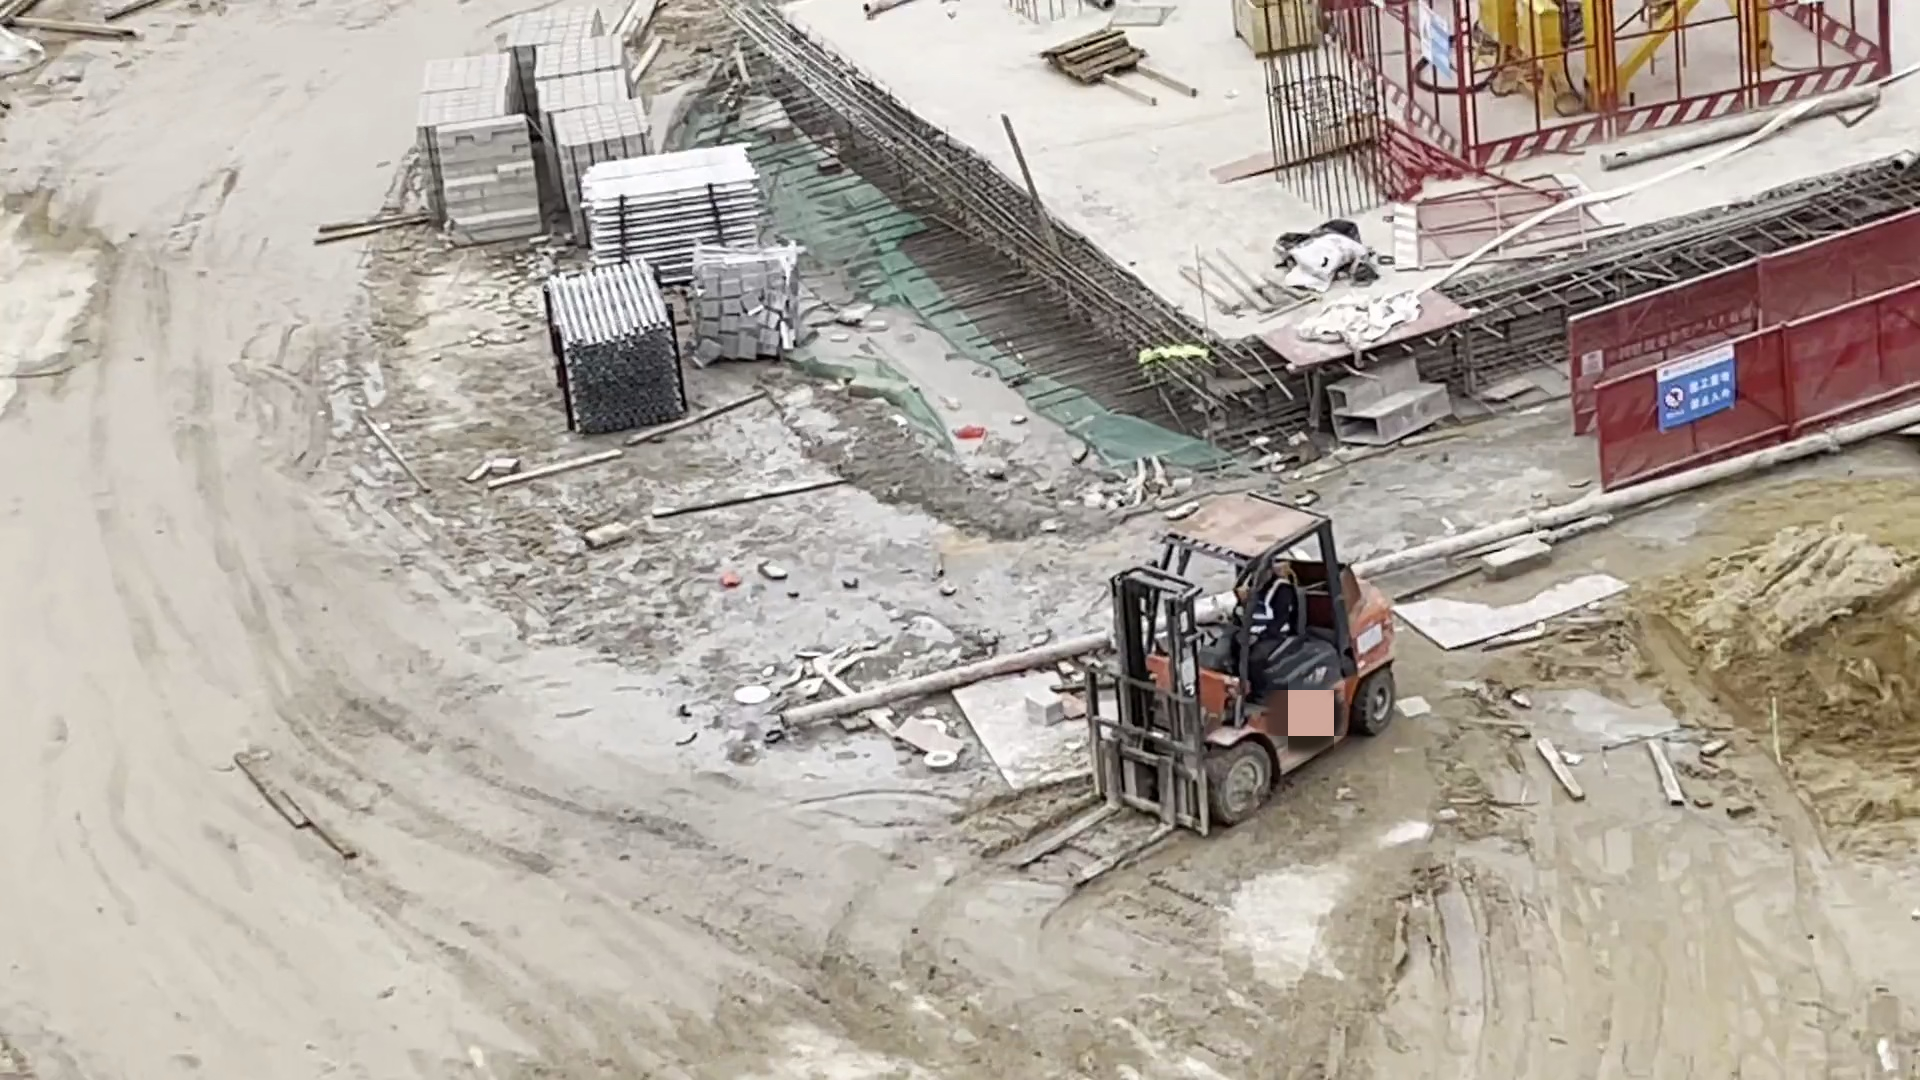brick: (504, 4, 655, 251), (415, 50, 545, 245)
scaffold: (583, 142, 758, 285), (546, 261, 680, 433)
slogan: (1663, 345, 1731, 429)
